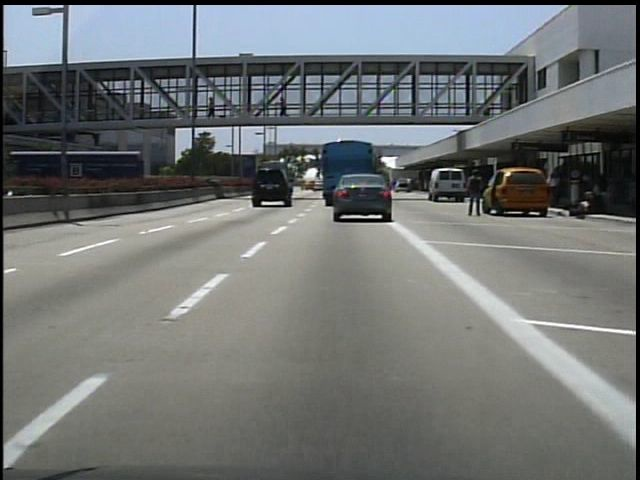person: (463, 164, 488, 221), (205, 93, 221, 120), (277, 94, 292, 121)
